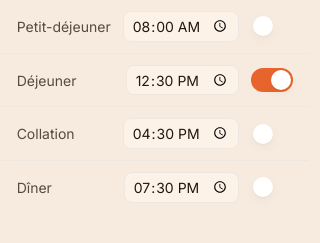
it: MealRemindersSection › revient a l'etat precedent si l'enregistrement echoue
Expected: the time field named "Heure du dîner" is shown, top-left (124, 172), bottom-right (239, 203)
Step 1. Click the switch named "Rappel dîner" → (272, 187), box top-left (251, 175), bottom-right (293, 199)
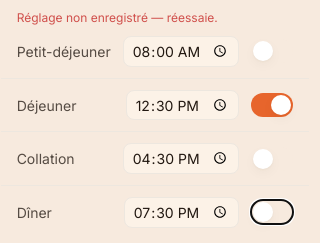
Now the text "Réglage non enregistré — réessaie." is shown, box top-left (17, 10), bottom-right (218, 25)
